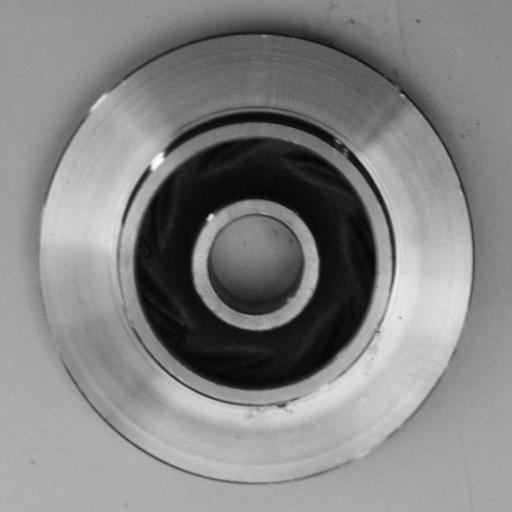crack: (245, 394, 304, 422)
unpolished_casting: (42, 28, 476, 485)
